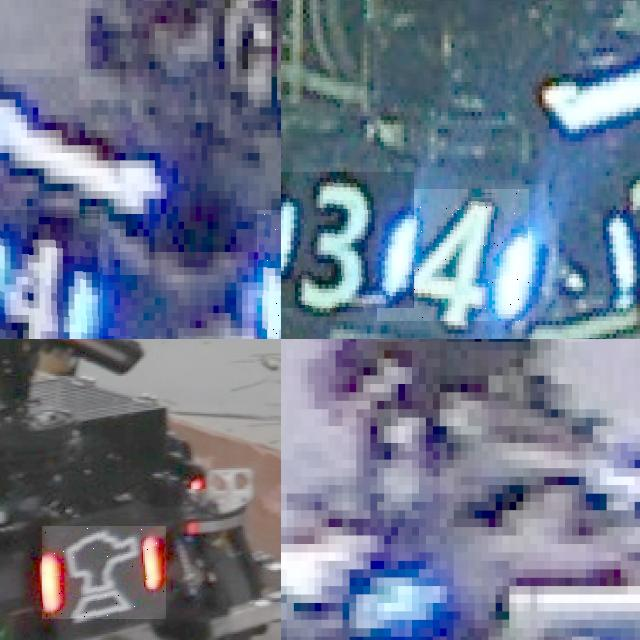B3: (281, 171, 414, 308), (612, 163, 640, 321)
B4: (377, 189, 529, 321), (0, 210, 99, 339)
Rs: (42, 526, 166, 620)
